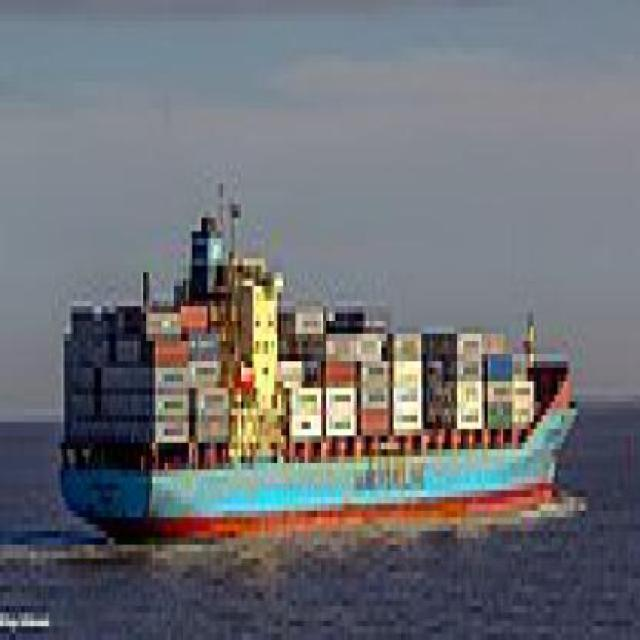container: (50, 165, 593, 566)
